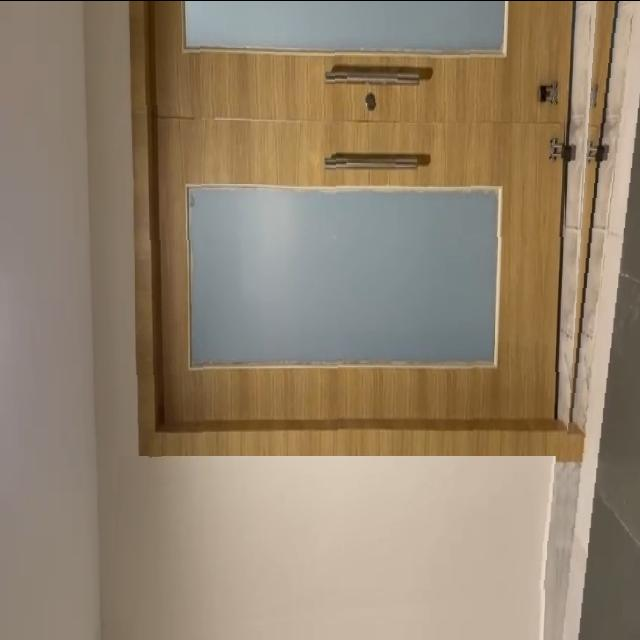door: (135, 0, 567, 442)
floor: (554, 0, 640, 640)
wall: (109, 455, 556, 634)
